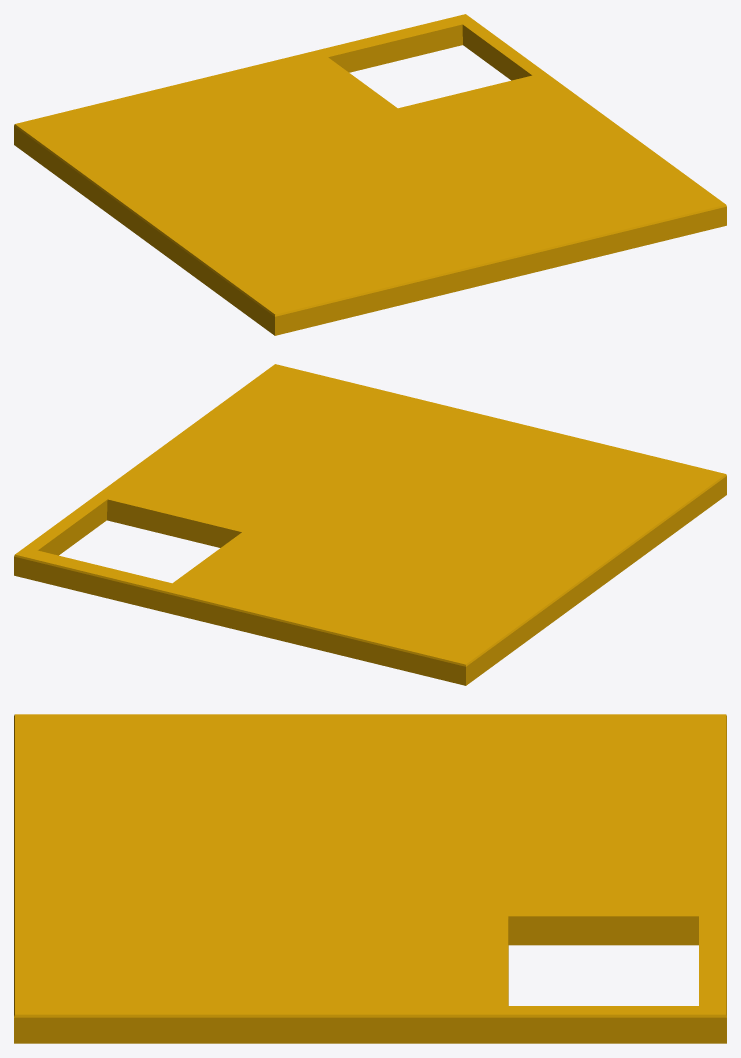
The model's file is Move_Game_SliderHole_01.fbx.
3 renders of one model, top to bottom at view 1: azimuth 30°, elevation 25°; view 2: azimuth 150°, elevation 25°; view 3: azimuth 270°, elevation 25°, orthographic. The views are drawn at different scales.
Visible parts, largest first — view 1: Move_Game_SliderHole_01; view 2: Move_Game_SliderHole_01; view 3: Move_Game_SliderHole_01.
Boxes of the visible parts, x1,y1,x2,y2 form: Move_Game_SliderHole_01: [14, 14, 726, 335]; Move_Game_SliderHole_01: [14, 364, 726, 685]; Move_Game_SliderHole_01: [14, 714, 726, 1043].
Size of the model in its own units: 17.29 by 0.7676 by 17.29.
